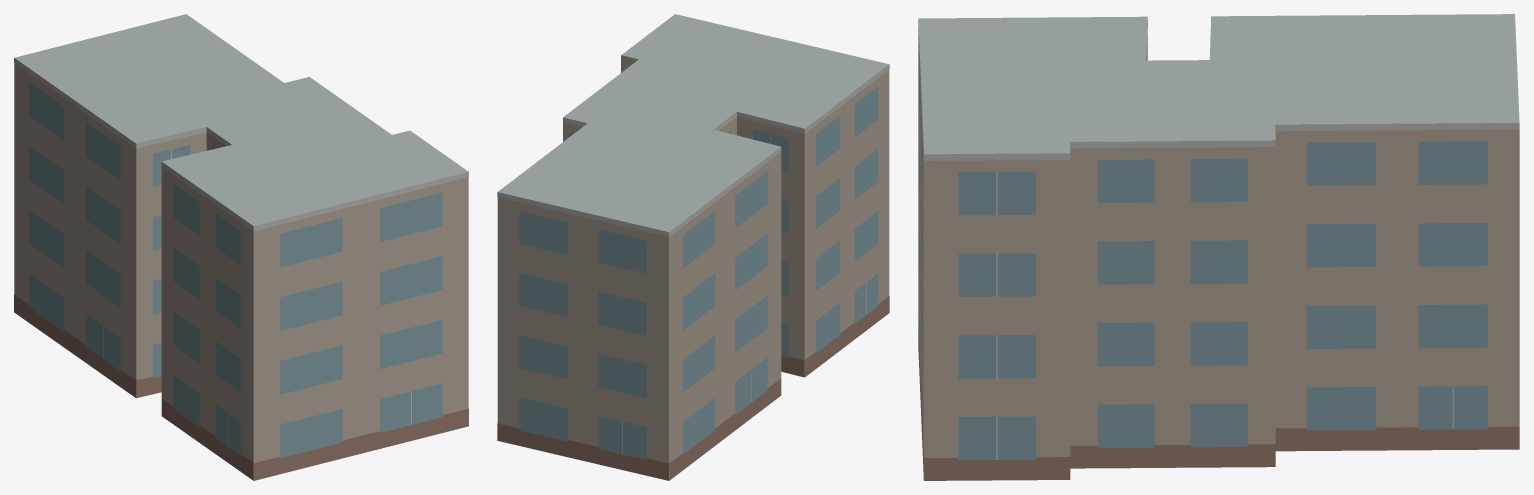
File: survey-upis-32690327.glb
3 views of the same model, side by side, from view 1: azimuth 30°, elevation 25°; view 2: azimuth 150°, elevation 25°; view 3: azimuth 270°, elevation 25° (orthographic). The views are drawn at different scales.
Parts seen in each view (by area): view 1: survey-upis-32690327.tmp; view 2: survey-upis-32690327.tmp; view 3: survey-upis-32690327.tmp.
Boxes of the visible parts, x1,y1,x2,y2 form: survey-upis-32690327.tmp: [14, 14, 468, 480]; survey-upis-32690327.tmp: [497, 14, 889, 480]; survey-upis-32690327.tmp: [918, 14, 1519, 480].
Bounding box in the file's own units: 11.12 × 12.06 × 20.13.
